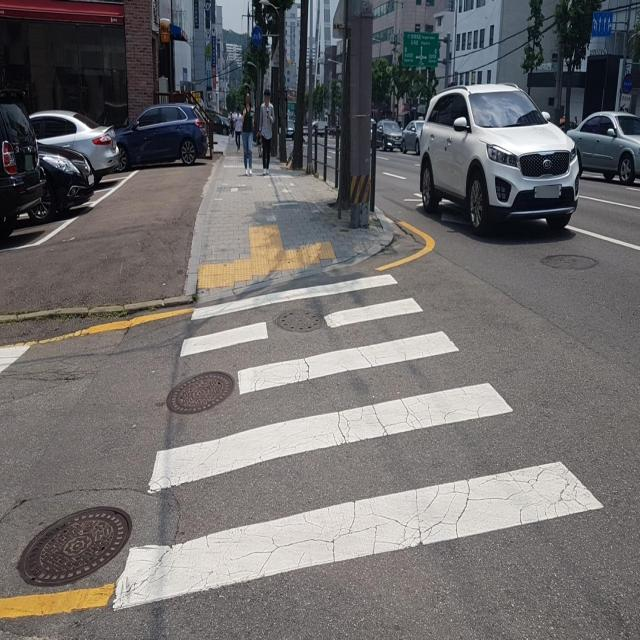횡단보도: (110, 268, 606, 618)
